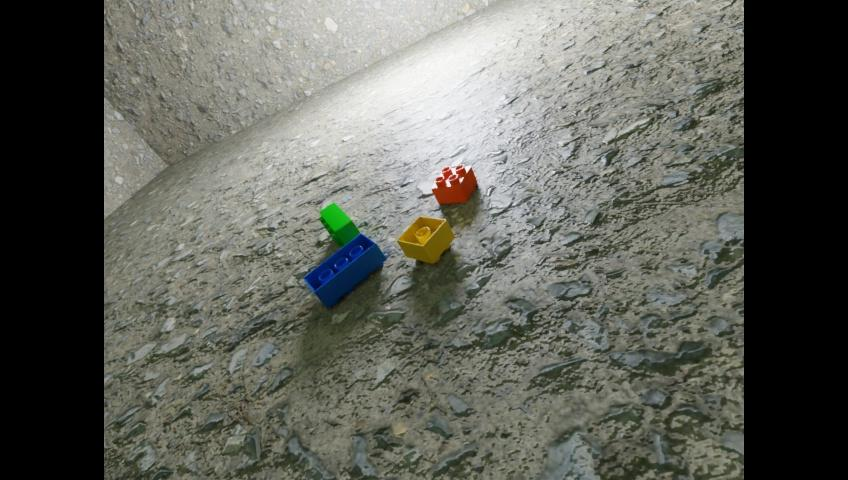2x2_orange: (431, 164, 476, 203)
2x2_yellow: (396, 215, 454, 263)
4x2_blue: (303, 232, 385, 307)
4x2_green: (318, 201, 360, 248)
